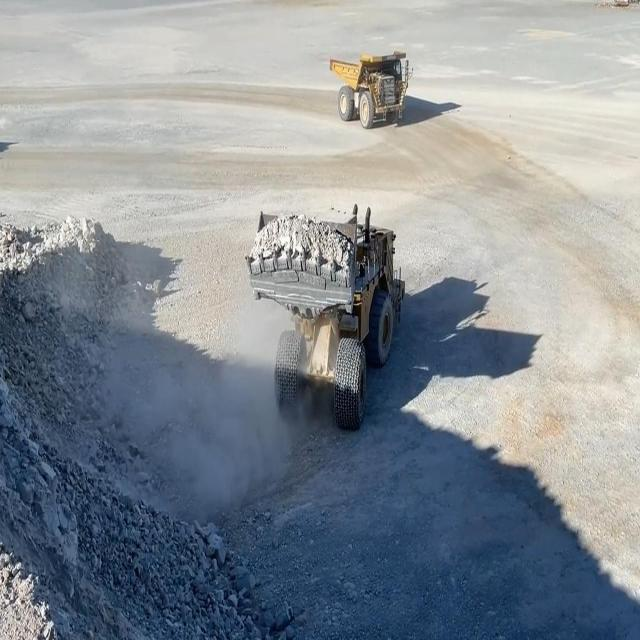Camion volquete: (327, 53, 411, 127)
pala cargadora: (246, 202, 404, 444)
